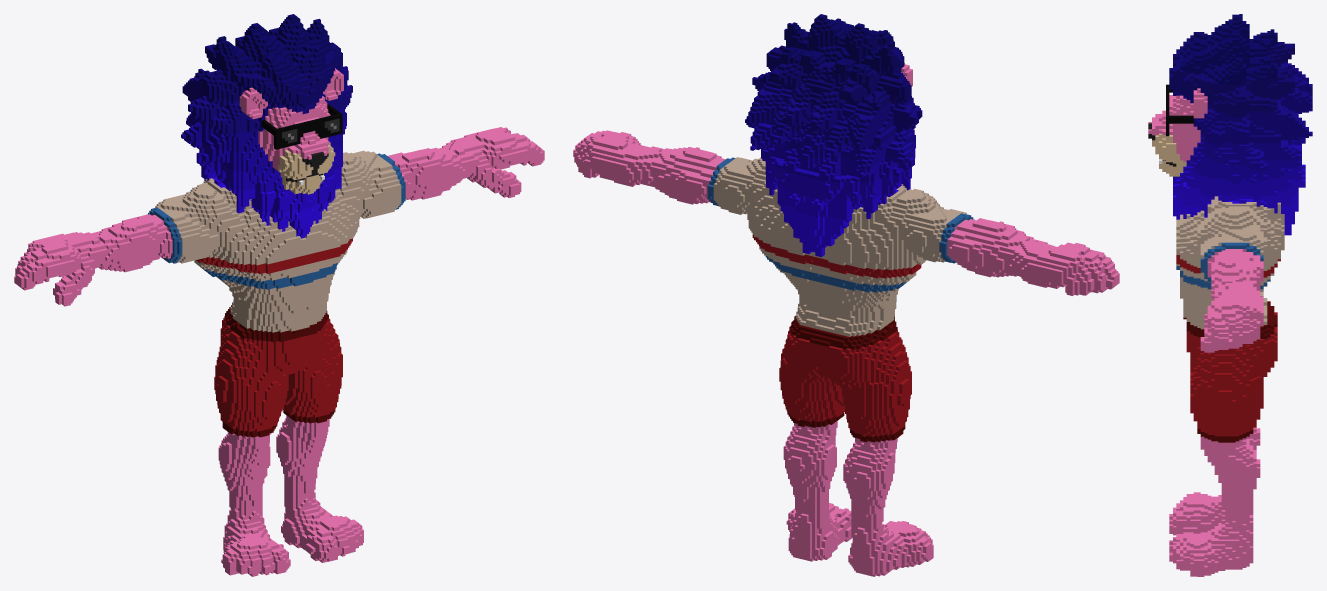
File: 171-BbsxY6gv.glb
3 views of the same model, side by side, from view 1: azimuth 30°, elevation 25°; view 2: azimuth 150°, elevation 25°; view 3: azimuth 270°, elevation 25° (orthographic). The views are drawn at different scales.
Visible parts, largest first — view 1: standard; view 2: standard; view 3: standard.
Part boxes in pixels (<box>): standard: <box>14,14,544,576</box>; standard: <box>573,14,1119,576</box>; standard: <box>1148,14,1312,576</box>.
Bounding box in the file's own units: 17.2 × 16.5 × 4.7.
5 materials, 5 textured.
